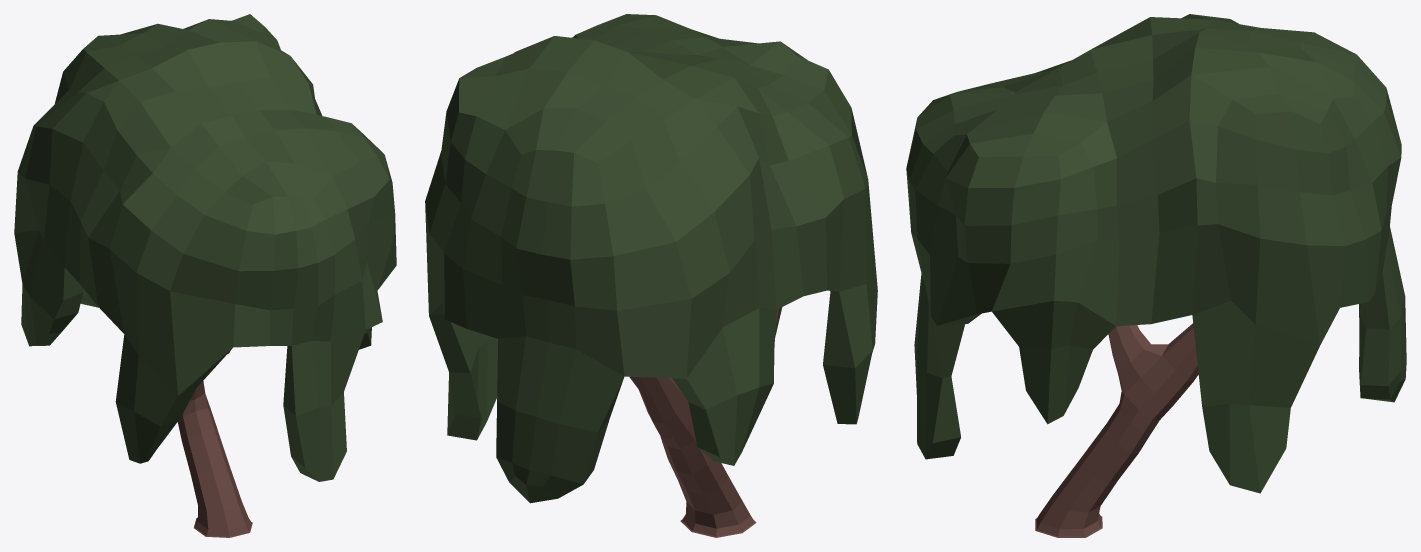
Rendered from Willow_4.gltf.
The picture shows the model from 3 angles, left to right: view 1: azimuth 30°, elevation 25°; view 2: azimuth 150°, elevation 25°; view 3: azimuth 270°, elevation 25°; orthographic projection. The views are drawn at different scales.
Visible parts, largest first — view 1: Willow_4; view 2: Willow_4; view 3: Willow_4.
Boxes of the visible parts, box(x1,y1,x2,y2) form: Willow_4: box(14, 14, 396, 537); Willow_4: box(425, 14, 877, 537); Willow_4: box(906, 14, 1406, 537).
Bounding box in the file's own units: 2.19 × 3.39 × 3.04.
